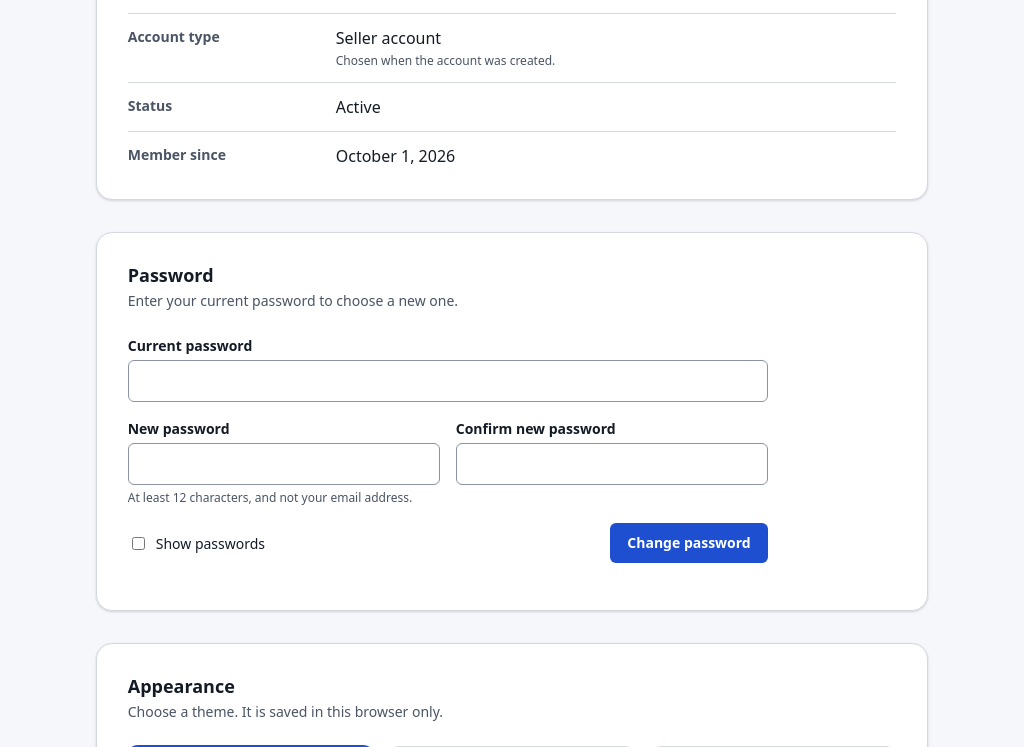
AccountComponent › checks the new password before sending it
The width and height of the screenshot is (1024, 747).
(page scrolled)
Step 1. Type "current-password-1" into the password field with id "account-current-password" → (448, 381), box [128, 360, 768, 402]
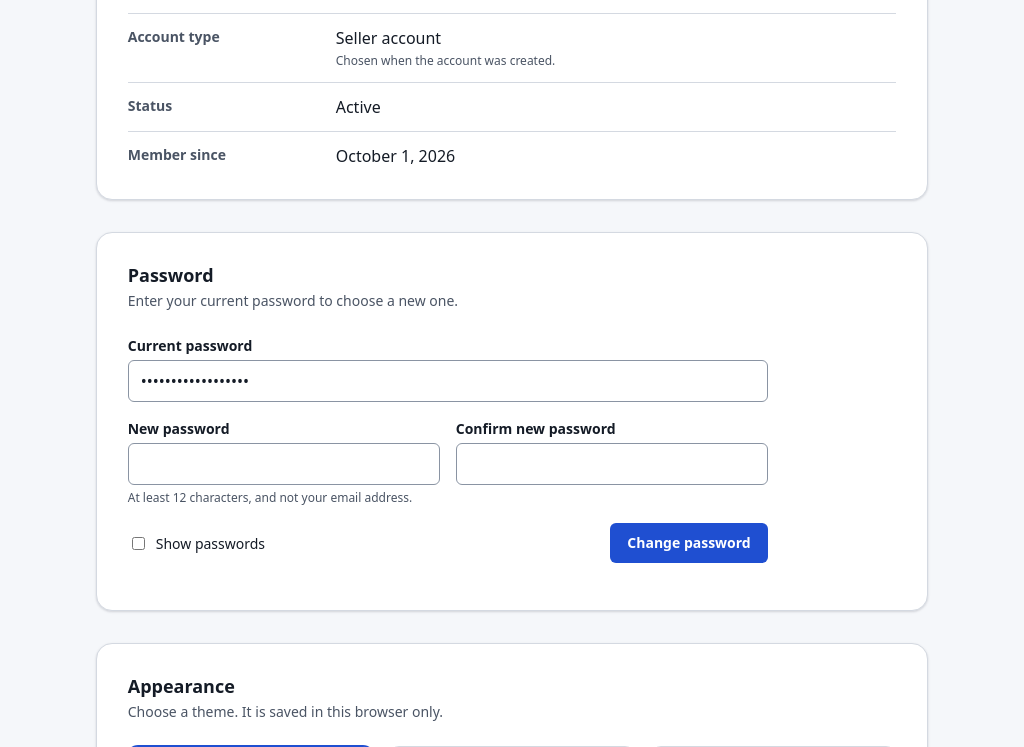
Step 2. Type "short" into the password field labelled "New password" → (284, 464), box [128, 443, 440, 485]
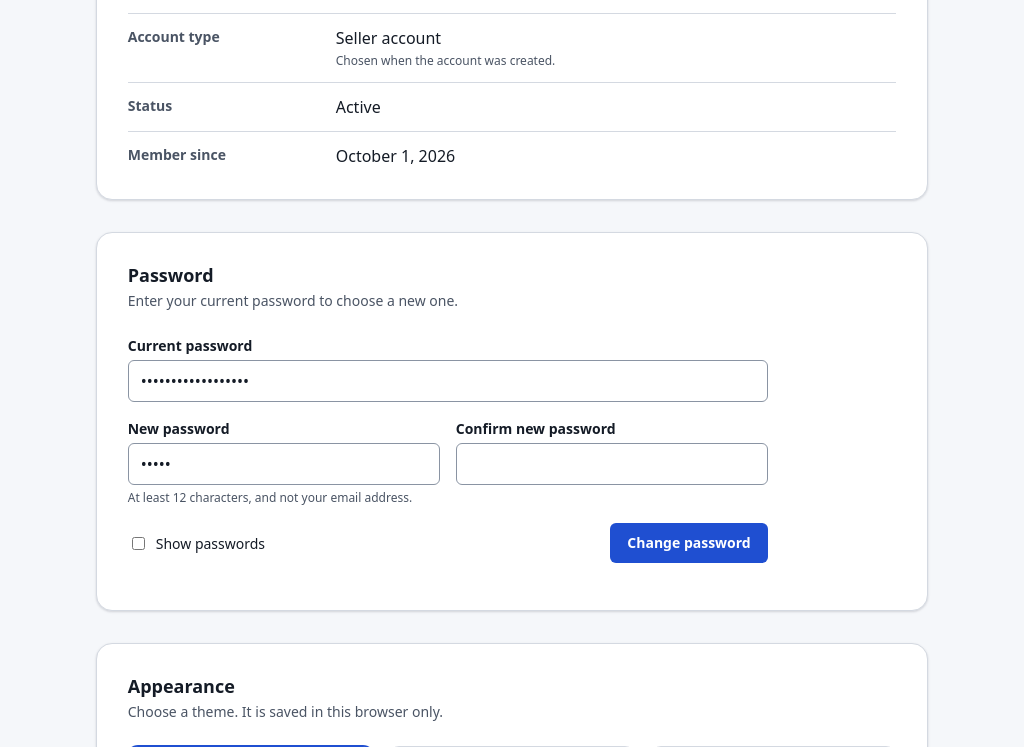
Step 3. Type "different" into the password field labelled "Confirm new password" → (612, 464), box [456, 443, 768, 485]
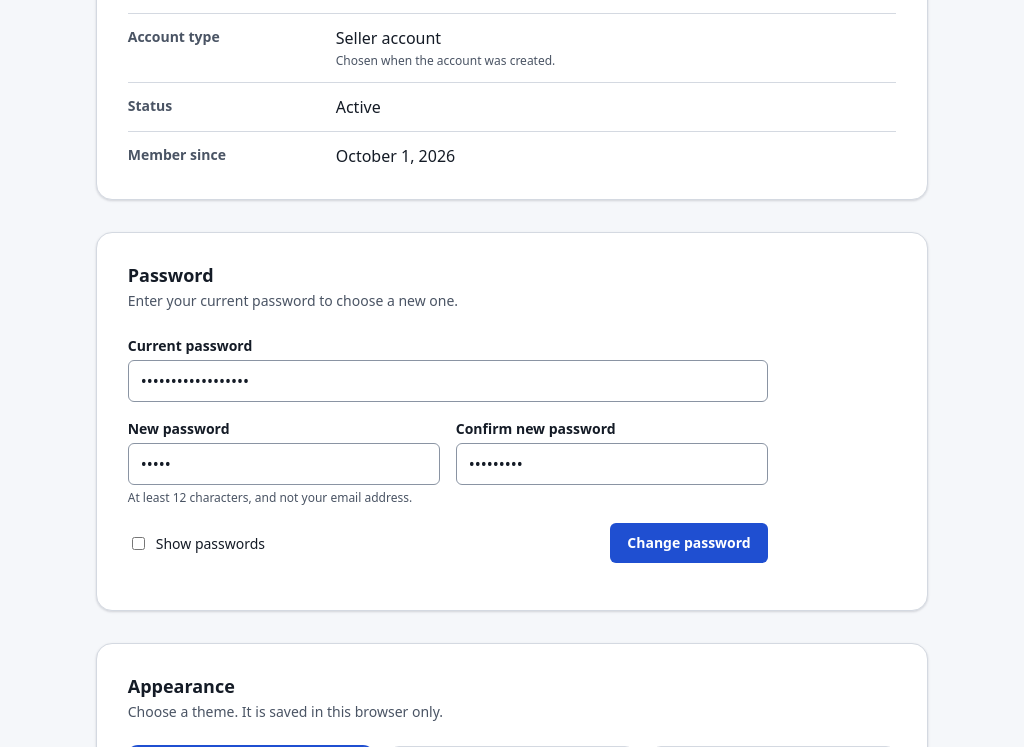
Step 4. Click the button "Change password" → (689, 543), box [610, 523, 768, 563]
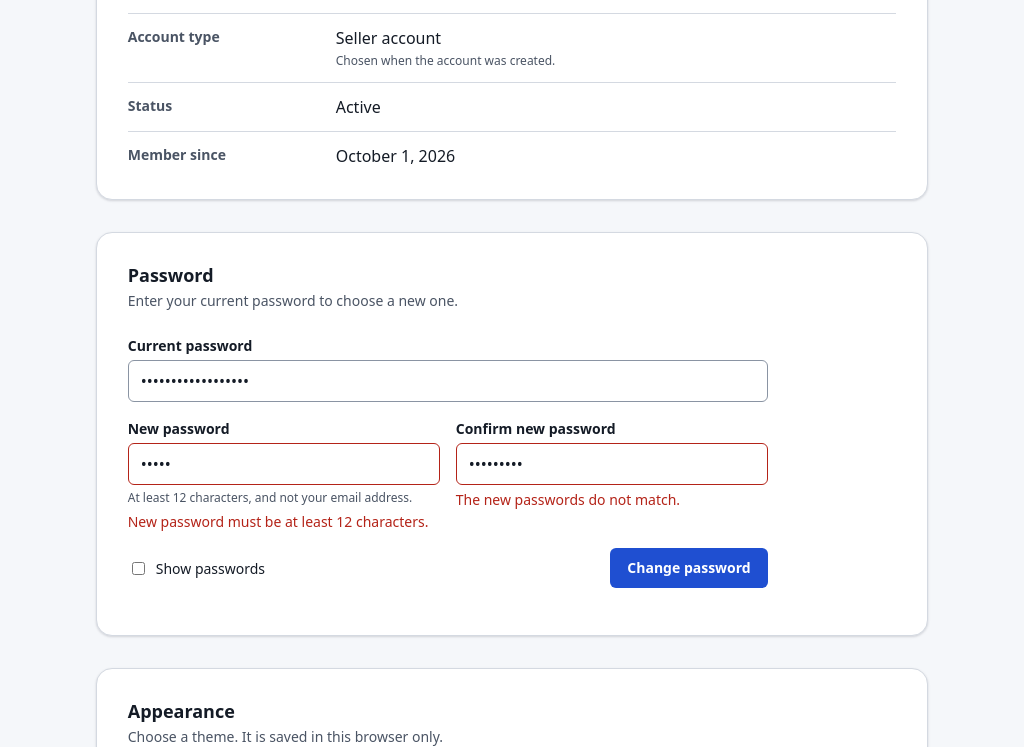
Check: the text "New password must be at least 12 characters." is shown, box [128, 511, 440, 532]
Check: the text "The new passwords do not match." is shown, box [456, 490, 680, 509]
